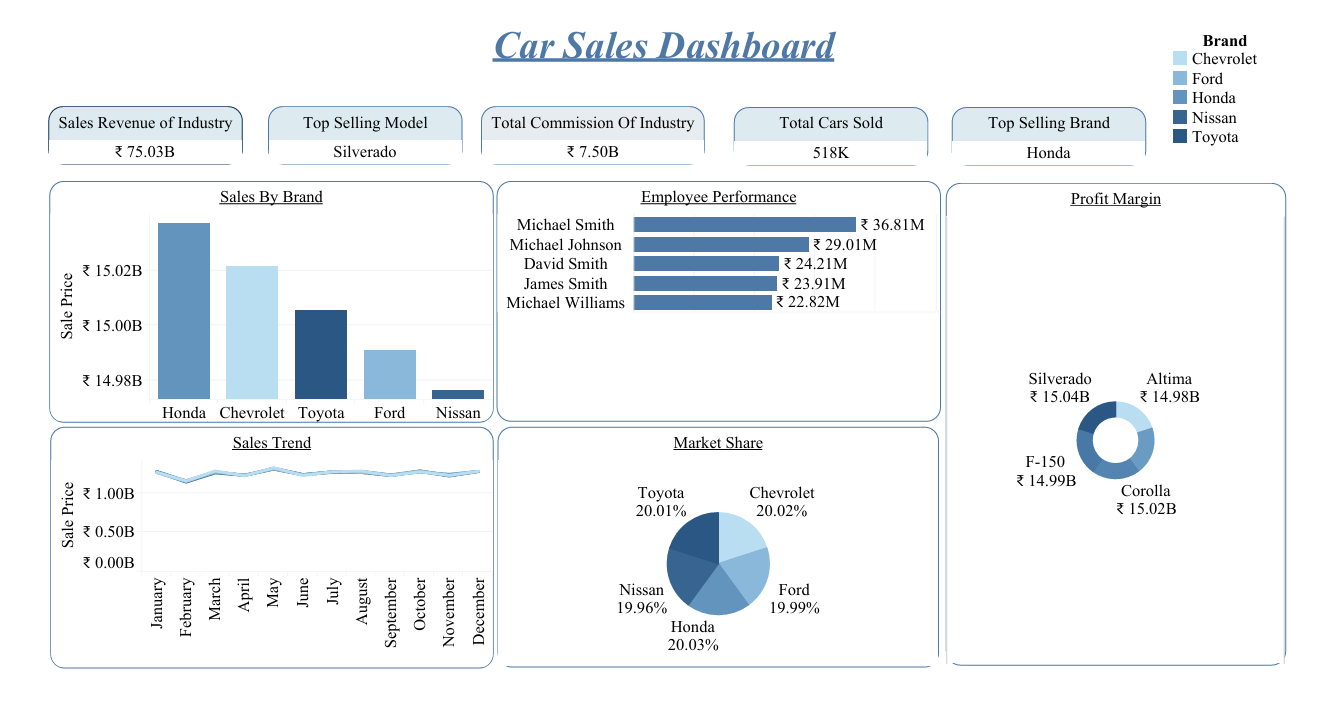

The page's visual inventory and layout, read from the dashboard file:
{"tool":"tableau","page":{"name":"Dashboard 1","canvas":[1320,720],"ordinal":0},"visuals":[{"type":"title","box":[8,8,1304,42]},{"type":"worksheet","title":"Sales Revenue of Industry","mark":"Automatic","box":[12,50,266,64]},{"type":"worksheet","title":"Commission Earned By Industry","mark":"Automatic","box":[282,50,261,62]},{"type":"worksheet","title":"Cars Sold ","mark":"Automatic","box":[547,50,249,62]},{"type":"worksheet","title":"Top Selling Brand","mark":"Automatic","box":[800,51,257,63]},{"type":"worksheet","title":"Top Selling Model","mark":"Automatic","box":[1061,51,245,61]},{"type":"worksheet","title":"Employee Performance","mark":"Automatic","rows":["Salesperson"],"cols":["Sale Price"],"box":[548,116,508,257]},{"type":"worksheet","title":"Sales By Brand","mark":"Automatic","rows":["Sale Price"],"cols":["Car Make"],"box":[12,117,530,258]},{"type":"filter","title":"Sales Trend","param":"[federated.0kc9hoi1jo6zv315qydlp11flbm5].[Action (Car Make)]","box":[1062,120,243,251]},{"type":"worksheet","title":"Sales Trend","mark":"Line","rows":["Sale Price"],"cols":["Date"],"box":[547,375,760,323]},{"type":"worksheet","title":" Profit Margin by Car Model ","mark":"Pie","rows":["Calculation_2005022469431297","Calculation_2005022469505027"],"box":[12,377,265,325]},{"type":"worksheet","title":"Market Share","mark":"Pie","box":[281,377,260,323]}]}

Visuals, with their boxes on the page's 1320x720 design canvas (x1, y1, x2, y2). These are canvas units, not pixel positions in the 1327x702 screenshot, which may show the page scaled, cropped or inside an application window:
title: BBox(8, 8, 1312, 50)
"Sales Revenue of Industry" worksheet: BBox(12, 50, 278, 114)
"Commission Earned By Industry" worksheet: BBox(282, 50, 543, 112)
"Cars Sold " worksheet: BBox(547, 50, 796, 112)
"Top Selling Brand" worksheet: BBox(800, 51, 1057, 114)
"Top Selling Model" worksheet: BBox(1061, 51, 1306, 112)
"Employee Performance" worksheet: BBox(548, 116, 1056, 373)
"Sales By Brand" worksheet: BBox(12, 117, 542, 375)
"Sales Trend" filter: BBox(1062, 120, 1305, 371)
"Sales Trend" worksheet (Line marks): BBox(547, 375, 1307, 698)
" Profit Margin by Car Model " worksheet (Pie marks): BBox(12, 377, 277, 702)
"Market Share" worksheet (Pie marks): BBox(281, 377, 541, 700)
